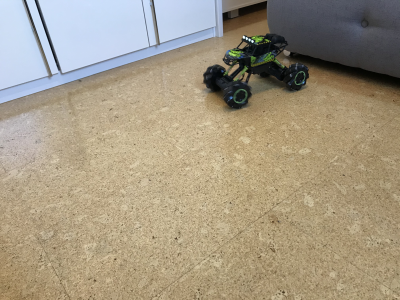remote control car: (196, 30, 312, 109)
